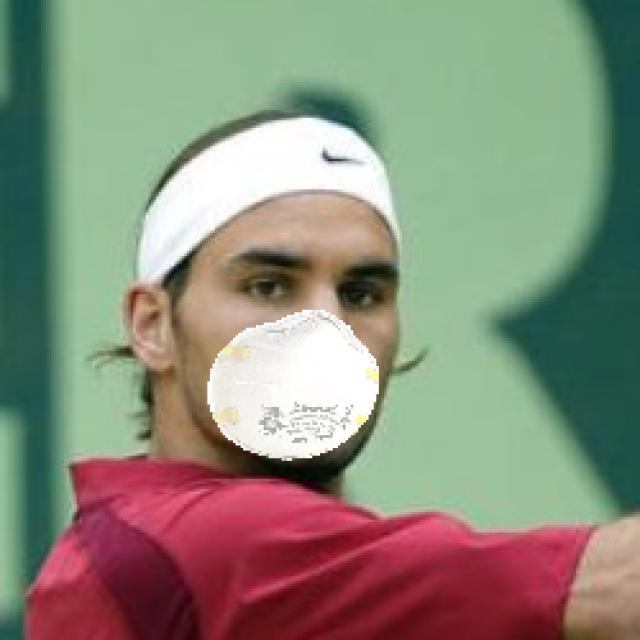mask: (176, 316, 387, 465)
